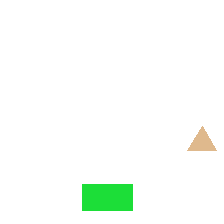rectangle: (82, 184, 132, 210)
triangle: (187, 126, 216, 150)
